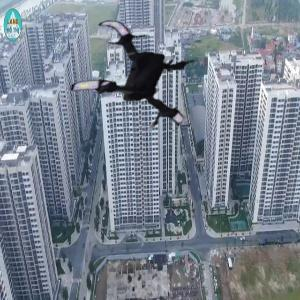drone: (70, 9, 214, 153)
